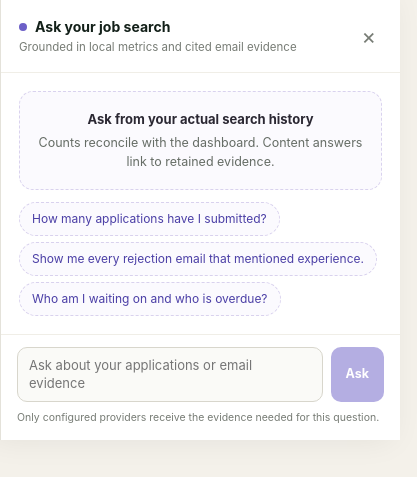
Scenario: ChatDrawer › submits the exhaustive rejection-email suggestion supported by chat retrieval
This screenshot has width=417, height=477.
Click the button "Show me every rejection email that mentioned experience." at (198, 259), box [19,242,377,276]
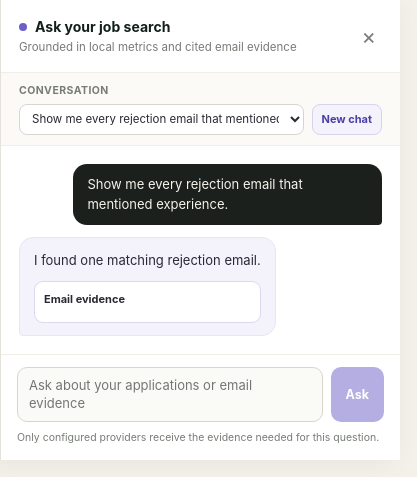
Now the text "I found one matching rejection email." is shown, box [34,250,261,271]
